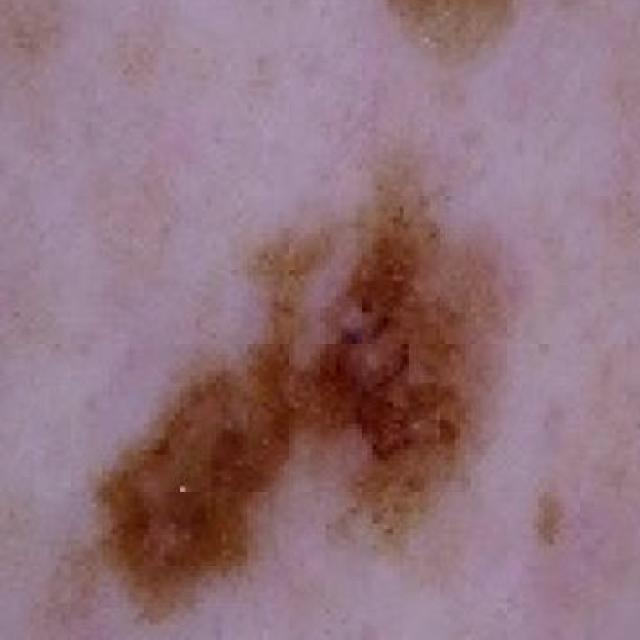MEL: (58, 0, 633, 640)
